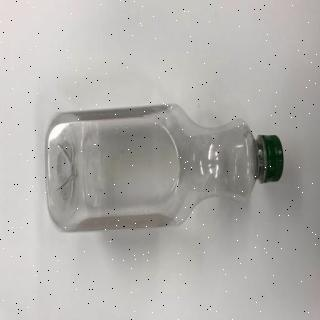Plastic-bottle: (44, 101, 289, 237)
